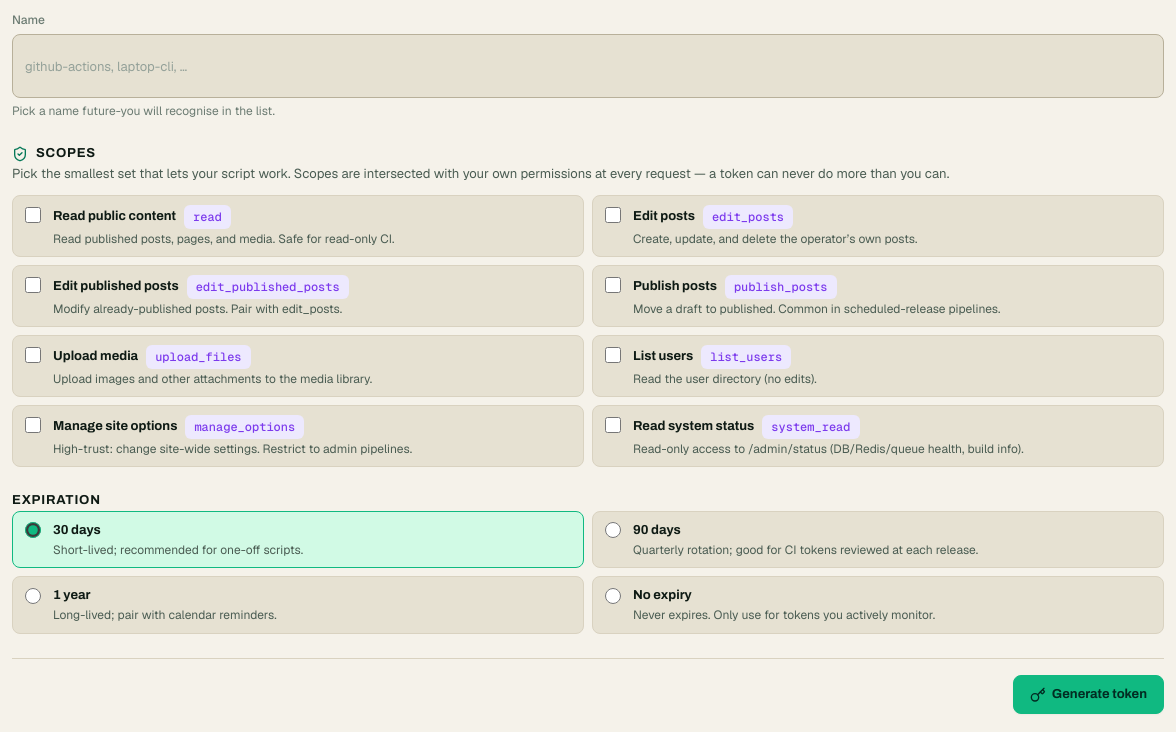
it: NewTokenForm › surfaces API errors inline
This screenshot has width=1176, height=732.
Type "ci" into the field with test id "new-token-name" at (588, 66), box [12,34,1164,98]
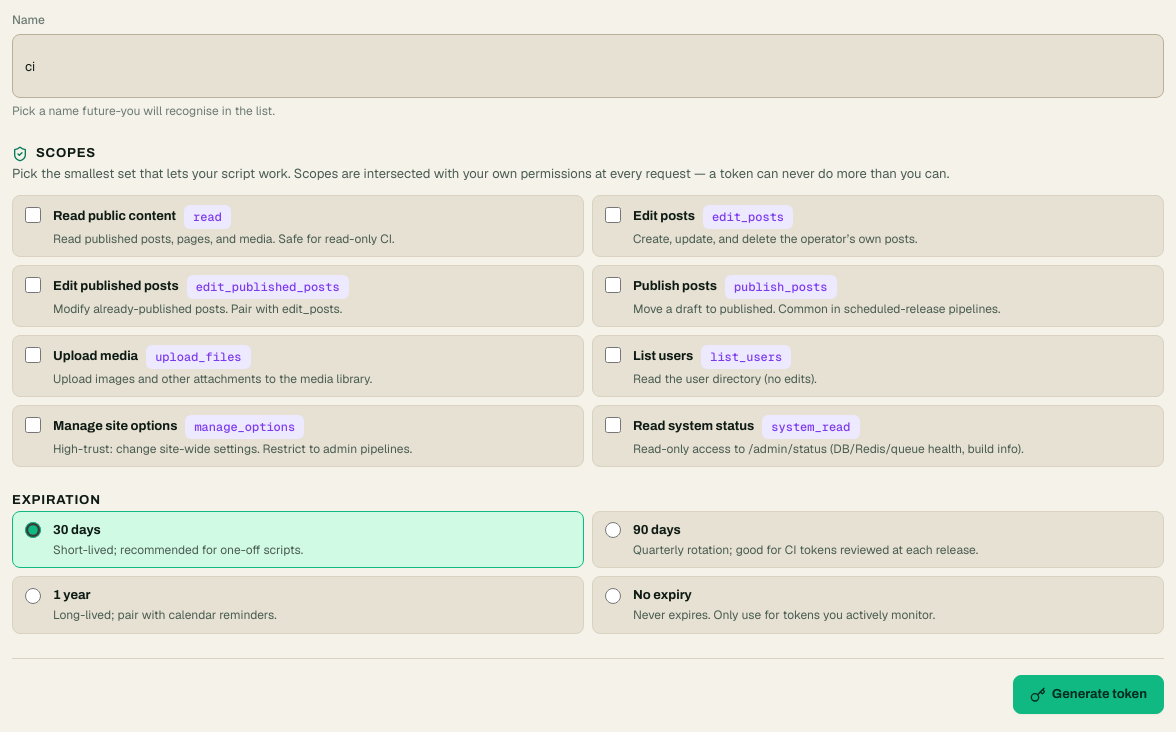
Click the checkbox with test id "scope-read" at (33, 215), box [25,207,41,223]
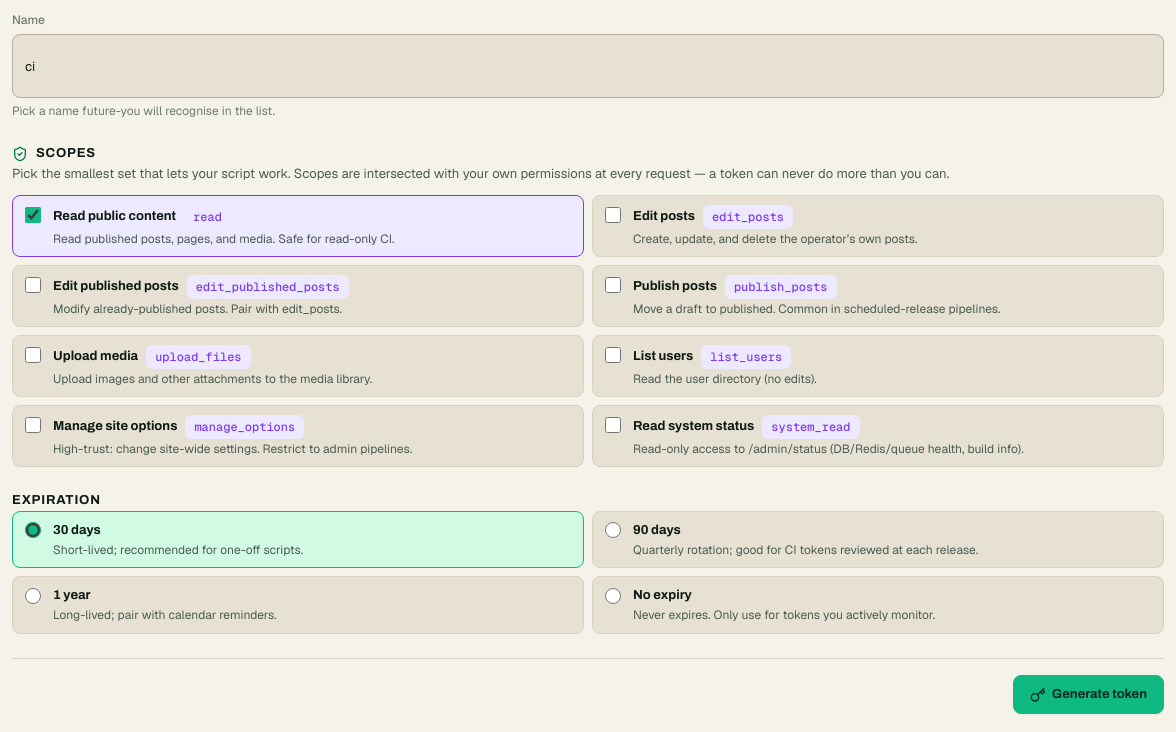
Submit the form with test id "new-token-form"
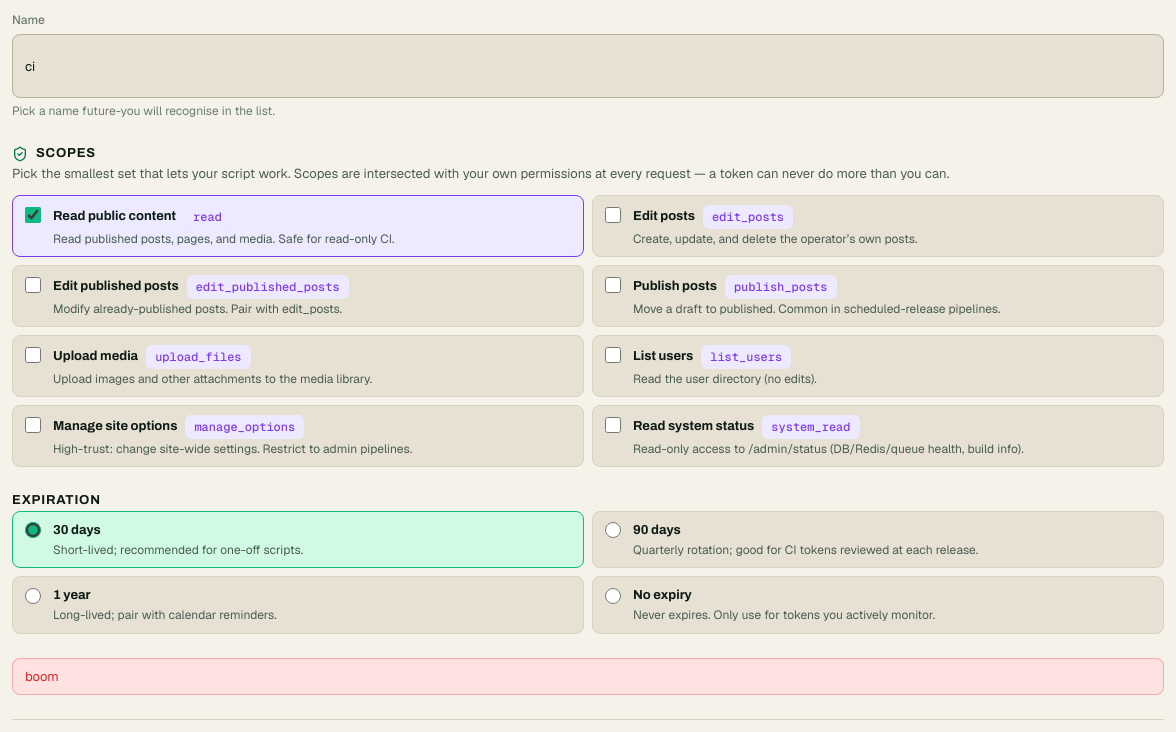
Result: the message with test id "new-token-error" reads "boom" at [25,668,59,685]
